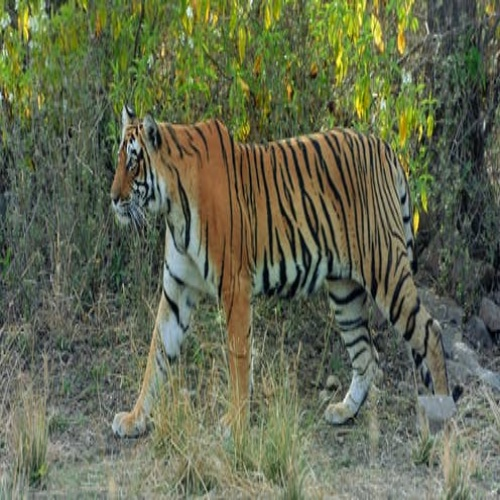tiger: (75, 94, 481, 390)
